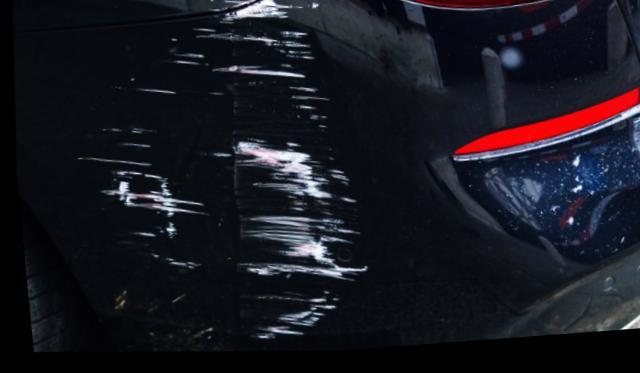scratch: (82, 0, 360, 354)
